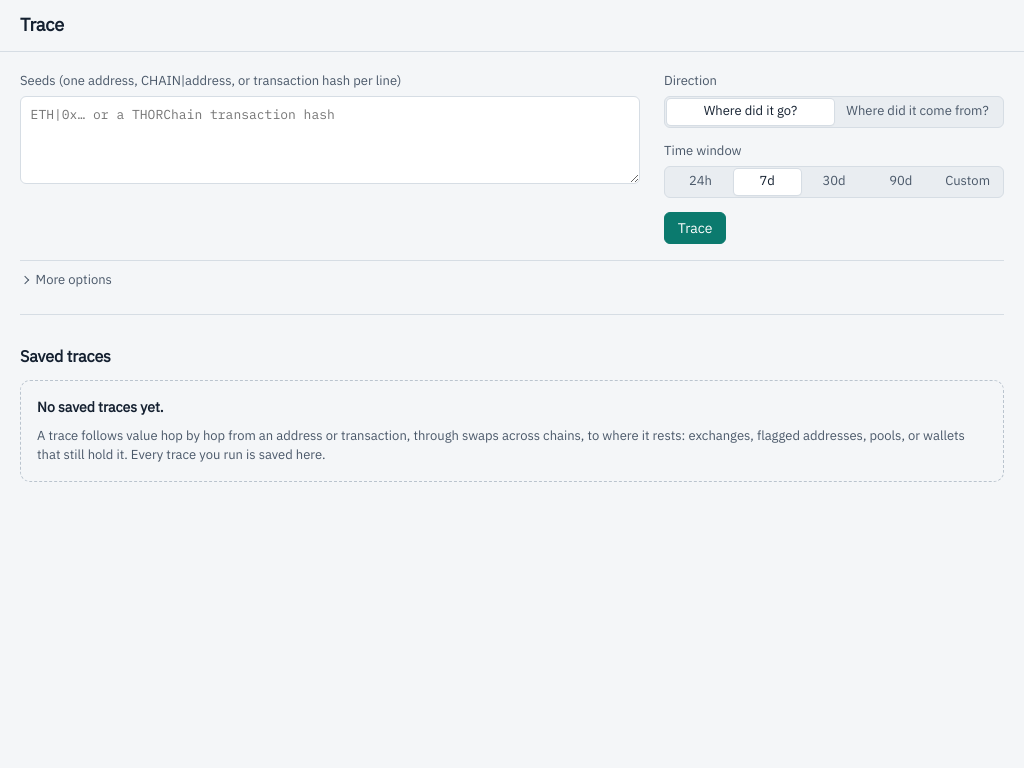
Test: TracePage › refuses to start without seeds
The image size is (1024, 768).
Click the button "Trace". click: (695, 228)
box: x1=664 y1=212 x2=726 y2=244
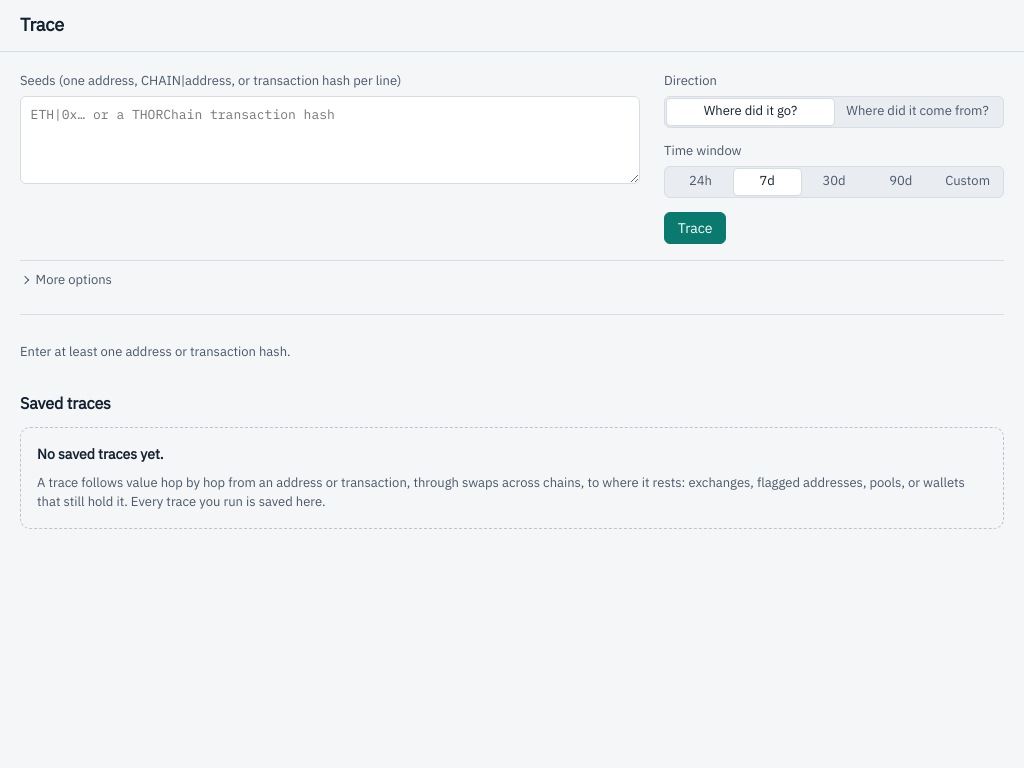
Now the text "Enter at least one address or transaction hash." is shown, box x1=20 y1=342 x2=291 y2=360
